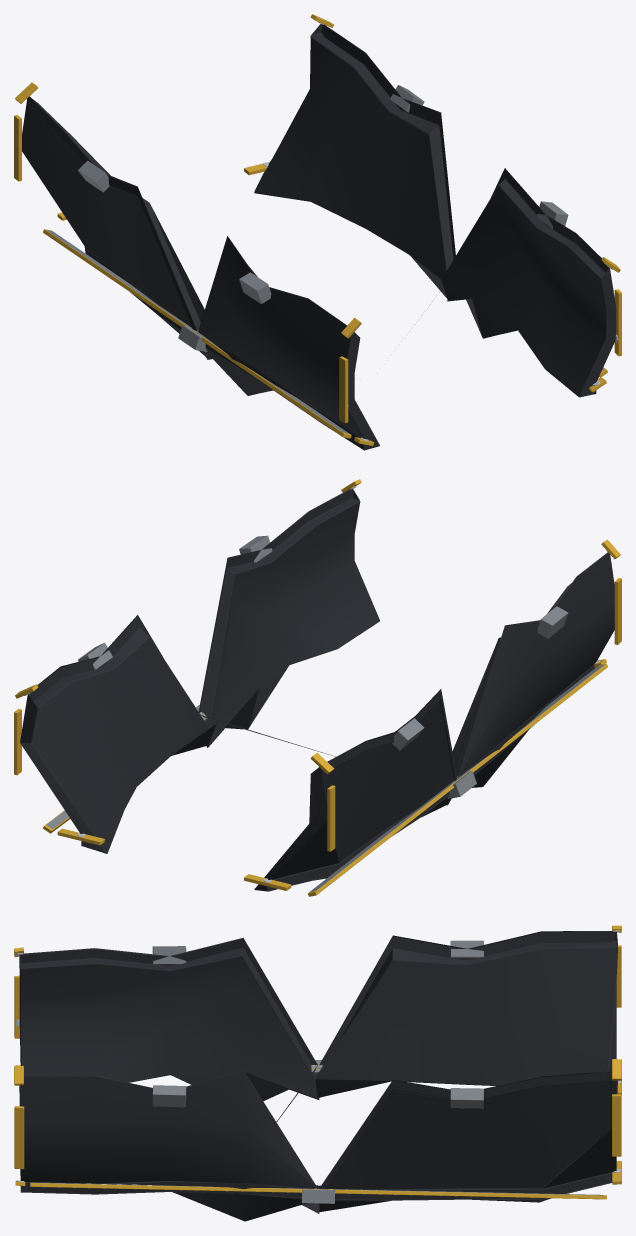
The model's file is strix_armor_aegis.fbx.
3 renders of one model, top to bottom at view 1: azimuth 30°, elevation 25°; view 2: azimuth 150°, elevation 25°; view 3: azimuth 270°, elevation 25°, orthographic. The views are drawn at different scales.
Parts seen in each view (by area): view 1: Armor_Aegis_R, Armor_Aegis_L, Armor_Aegis_Bits_<Vector (-0.5400, 1.3750, 0.2800)>, Armor_Aegis_Bits_<Vector (0.5400, 1.3750, 0.2800)>; view 2: Armor_Aegis_R, Armor_Aegis_L, Armor_Aegis_Bits_<Vector (-0.5400, 1.3750, 0.2800)>, Armor_Aegis_Bits_<Vector (0.5400, 1.3750, 0.2800)>; view 3: Armor_Aegis_L, Armor_Aegis_R, Armor_Aegis_Bits_<Vector (0.5400, 1.3750, 0.2800)>, Armor_Aegis_Bits_<Vector (-0.5400, 1.3750, 0.2800)>.
Boxes of the visible parts, <box> form: Armor_Aegis_R: <box>254,24,616,397</box>; Armor_Aegis_L: <box>22,96,379,450</box>; Armor_Aegis_Bits_<Vector (-0.5400, 1.3750, 0.2800)>: <box>14,82,373,445</box>; Armor_Aegis_Bits_<Vector (0.5400, 1.3750, 0.2800)>: <box>244,14,621,392</box>; Armor_Aegis_R: <box>20,489,379,853</box>; Armor_Aegis_L: <box>254,552,614,891</box>; Armor_Aegis_Bits_<Vector (-0.5400, 1.3750, 0.2800)>: <box>244,539,621,896</box>; Armor_Aegis_Bits_<Vector (0.5400, 1.3750, 0.2800)>: <box>14,479,361,845</box>; Armor_Aegis_L: <box>19,931,617,1122</box>; Armor_Aegis_R: <box>19,1069,617,1221</box>; Armor_Aegis_Bits_<Vector (0.5400, 1.3750, 0.2800)>: <box>14,1059,621,1203</box>; Armor_Aegis_Bits_<Vector (-0.5400, 1.3750, 0.2800)>: <box>14,925,621,1095</box>.
Size of the model in its own units: 134 by 73.9 by 220.
